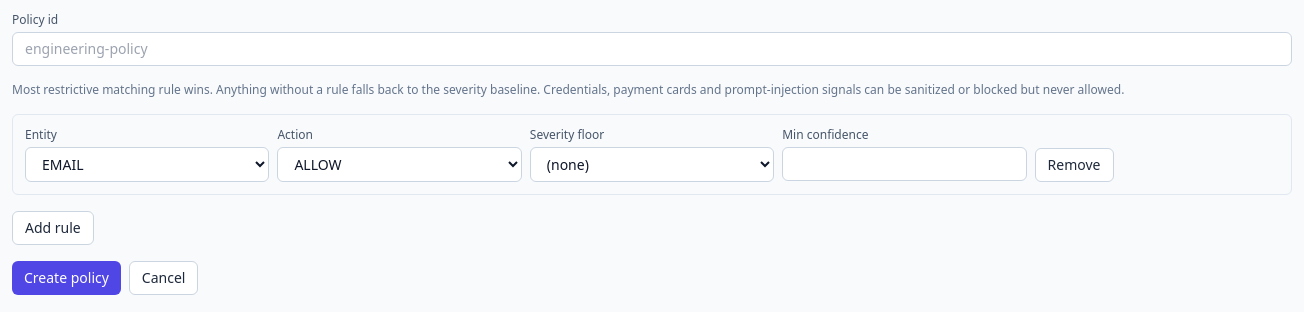
PolicyEditor › does not offer ALLOW for a credential entity, and moves an existing ALLOW off it when the entity changes
Check: the dropdown labelled "Action" shows "ALLOW", box [277,147,522,182]
Select "API_KEY" in the dropdown labelled "Entity" at point(147, 164), box [25,147,269,182]
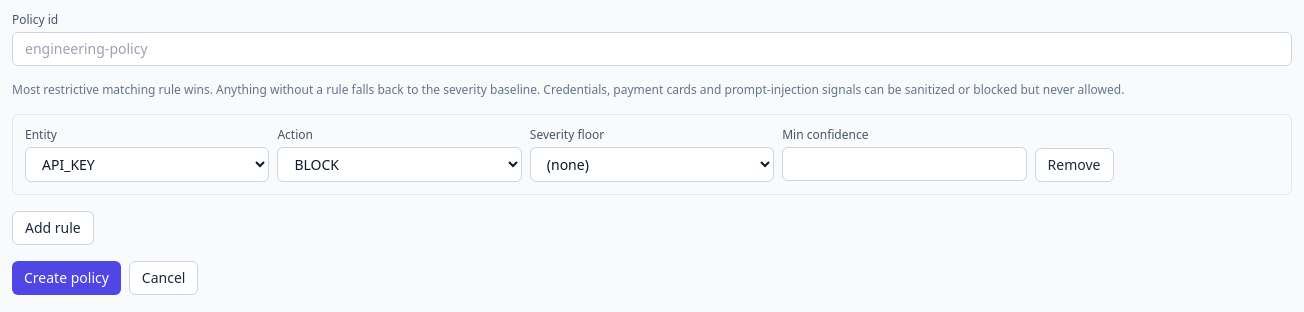
Check: the dropdown labelled "Action" shows "BLOCK", box [277,147,522,182]
